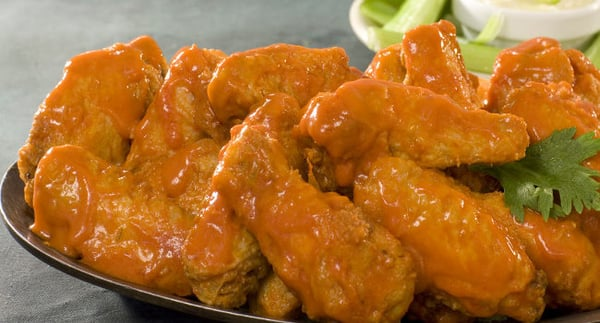curry: (494, 126, 600, 221)
